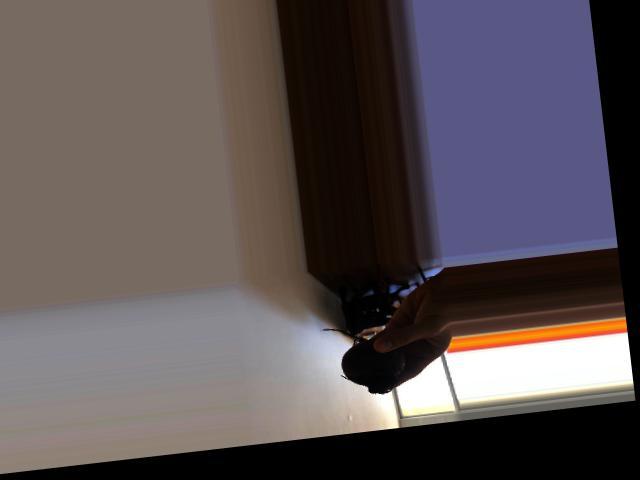beet: (319, 320, 408, 400)
